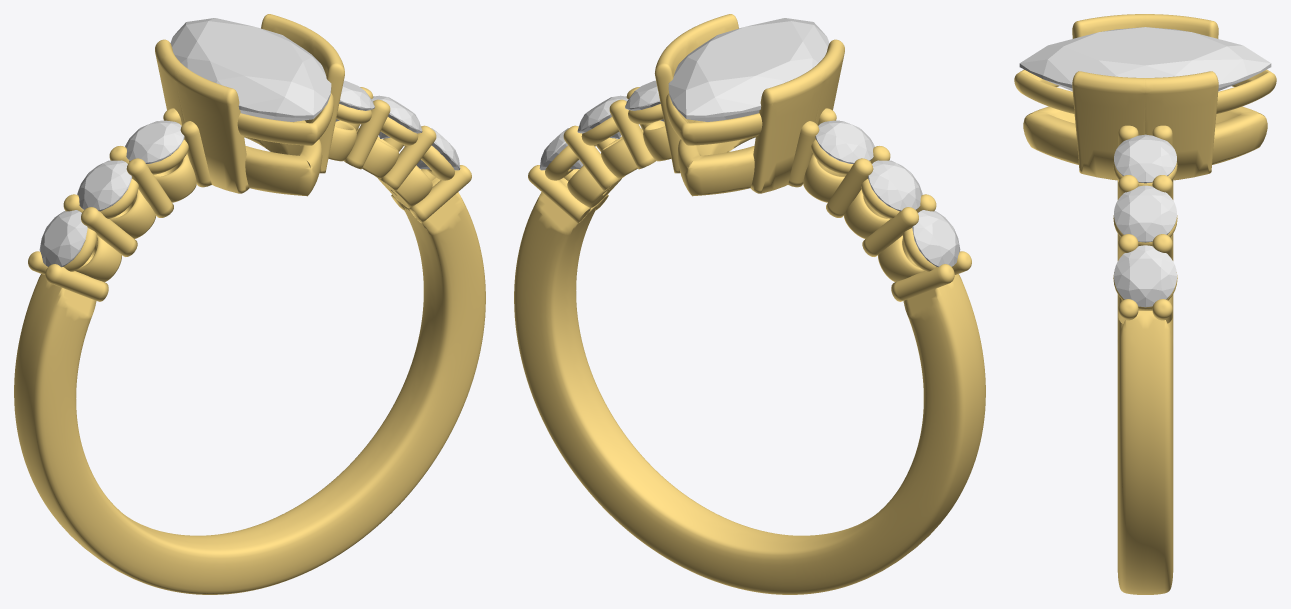
File: diamond-marquise-yellowgold-halfmoonbezel-straightband-7stone.glb
3 renders of one model, left to right at view 1: azimuth 30°, elevation 25°; view 2: azimuth 150°, elevation 25°; view 3: azimuth 270°, elevation 25°, orthographic.
Parts seen in each view (by area): view 1: metal.003, stone.001, dia.002, dia.015, dia.016, dia.018, dia.019; view 2: metal.003, stone.001, dia.002, dia.015, dia.016, dia.018, dia.019; view 3: metal.003, stone.001, dia.017, dia.018, dia.019.
Part boxes in pixels (left/top/right/bottom): metal.003: left=14, top=14, right=485, bottom=594; stone.001: left=170, top=18, right=331, bottom=121; dia.002: left=39, top=210, right=87, bottom=267; dia.015: left=77, top=160, right=131, bottom=211; dia.016: left=125, top=120, right=184, bottom=163; dia.018: left=371, top=95, right=422, bottom=138; dia.019: left=335, top=80, right=374, bottom=121; metal.003: left=514, top=14, right=985, bottom=594; stone.001: left=668, top=18, right=829, bottom=121; dia.002: left=912, top=210, right=960, bottom=267; dia.015: left=868, top=160, right=922, bottom=211; dia.016: left=815, top=120, right=874, bottom=163; dia.018: left=577, top=95, right=628, bottom=138; dia.019: left=625, top=80, right=664, bottom=121; metal.003: left=1014, top=14, right=1276, bottom=594; stone.001: left=1019, top=27, right=1271, bottom=90; dia.017: left=1114, top=245, right=1176, bottom=307; dia.018: left=1114, top=185, right=1176, bottom=242; dia.019: left=1114, top=134, right=1176, bottom=183.
Size of the model in its own units: 20.5 by 22.94 by 10.4.
